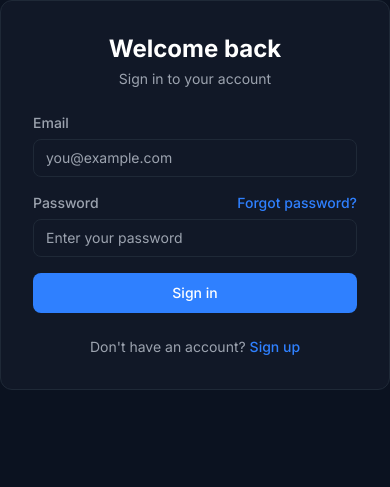
it: LoginForm › displays generic error on non-Error failure
In the field labelled "Email": {"x": 195, "y": 158} [33,139,357,177], type "test@example.com"
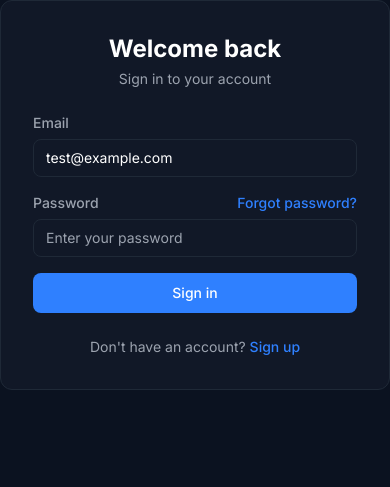
In the password field labelled "Password": {"x": 195, "y": 238} [33,219,357,257], type "password1"
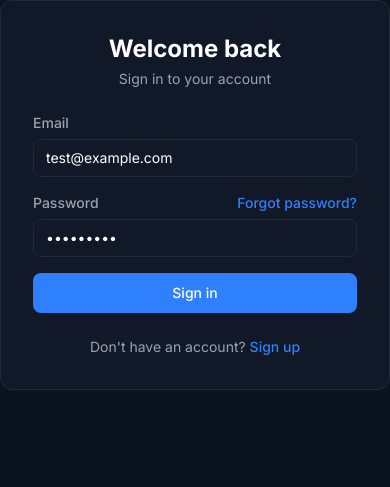
Click the button "Sign in": {"x": 195, "y": 293} [33,273,357,313]
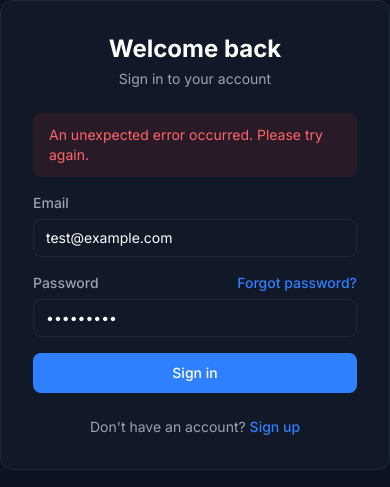
expect the text "An unexpected error occurred. Please try again." is shown: met, box [33,113,357,177]
